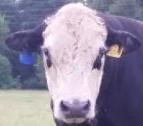muzzles: (53, 96, 97, 123)
